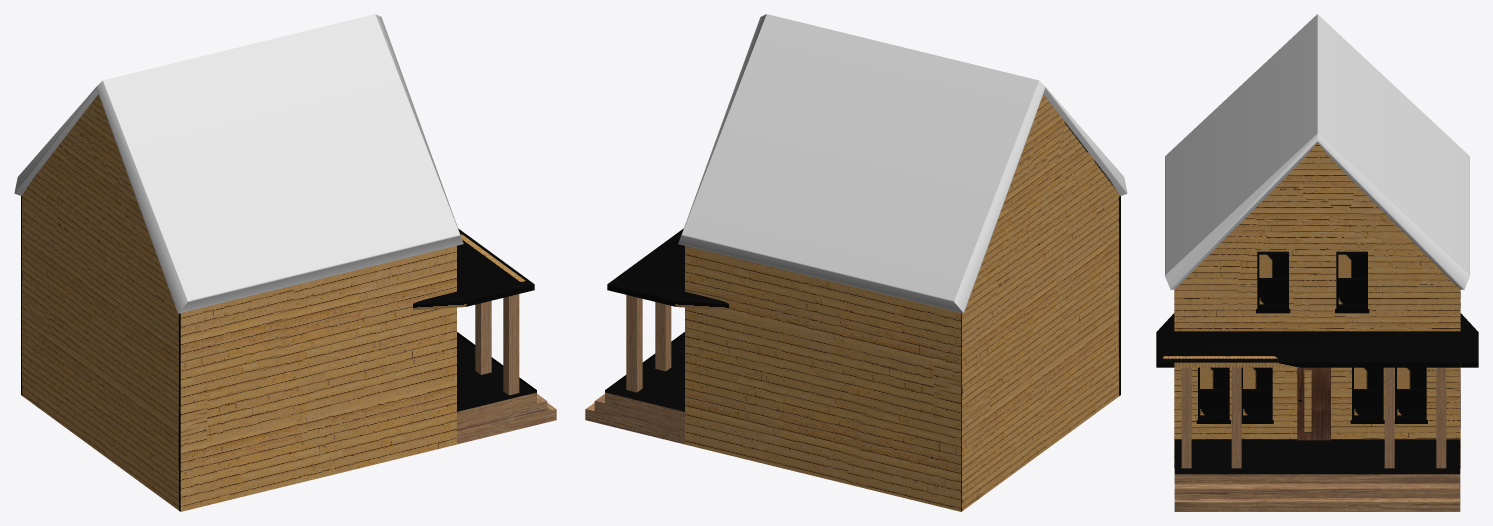
File: housererexport.fbx
3 views of the same model, side by side, from view 1: azimuth 30°, elevation 25°; view 2: azimuth 150°, elevation 25°; view 3: azimuth 270°, elevation 25° (orthographic). The views are drawn at different scales.
Parts seen in each view (by area): view 1: Plane, Cube, Cube.002, Plane.001, Cube.003, Plane.002, Cube.004; view 2: Plane, Cube, Cube.002, Plane.001, Cube.003, Plane.002, Cube.004; view 3: Cube, Plane, Plane.001, Cube.002, Plane.002, Cube.003, Cube.007, Cube.004, Cube.013, Cube.005, Cube.018, Cube.009 (+8 smaller).
Boxes of the visible parts, box(x1,y1,x2,y2) form: Plane: box(21, 94, 456, 511); Cube: box(14, 14, 463, 313); Cube.002: box(413, 228, 534, 304); Plane.001: box(456, 392, 556, 444); Cube.003: box(475, 294, 519, 395); Plane.002: box(457, 332, 536, 411); Cube.004: box(413, 284, 534, 310); Plane: box(685, 94, 1120, 511); Cube: box(678, 14, 1127, 313); Cube.002: box(607, 228, 728, 304); Plane.001: box(585, 392, 685, 444); Cube.003: box(626, 295, 671, 392); Plane.002: box(605, 332, 684, 411); Cube.004: box(607, 284, 728, 310); Cube: box(1165, 14, 1469, 289); Plane: box(1174, 143, 1460, 467); Plane.001: box(1174, 474, 1460, 511); Cube.002: box(1156, 313, 1478, 362); Plane.002: box(1174, 439, 1460, 474); Cube.003: box(1181, 367, 1446, 468); Cube.007: box(1297, 367, 1330, 440); Cube.004: box(1156, 362, 1478, 367); Cube.013: box(1338, 254, 1365, 304); Cube.005: box(1259, 254, 1286, 304); Cube.018: box(1200, 367, 1227, 415); Cube.009: box(1397, 367, 1424, 415).
Bounding box in the file's own units: 2721 × 2548 × 2229.
